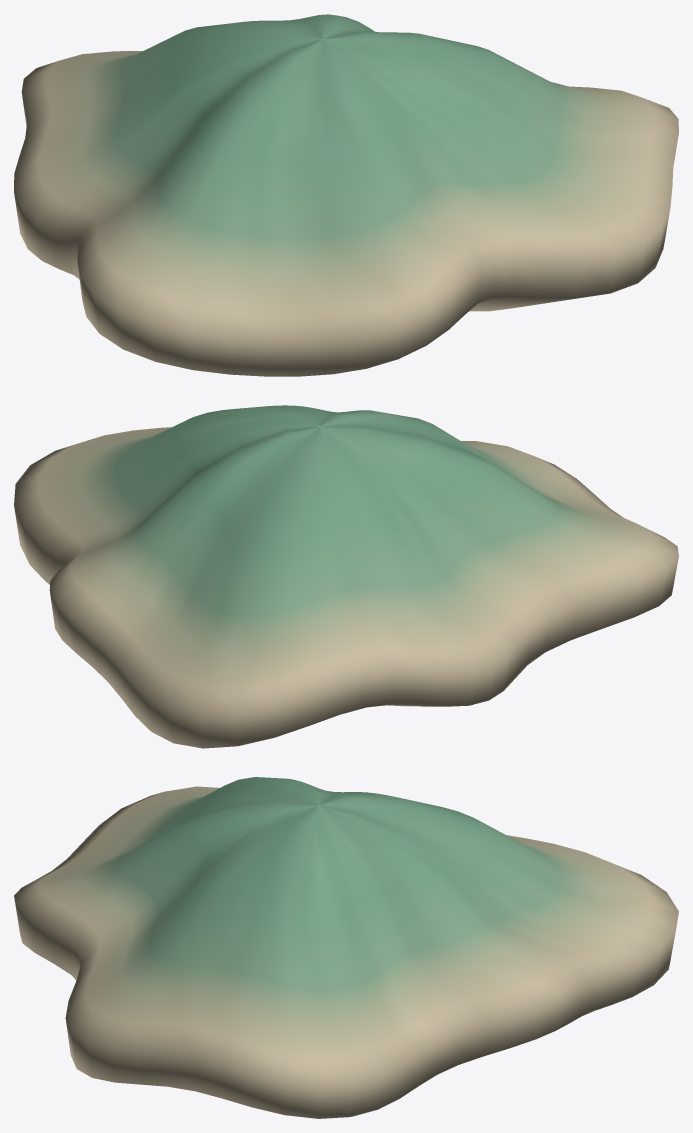
The model's file is tropical_islet.glb.
3 views of the same model, one above another, from view 1: azimuth 30°, elevation 25°; view 2: azimuth 150°, elevation 25°; view 3: azimuth 270°, elevation 25° (orthographic). The views are drawn at different scales.
Parts seen in each view (by area): view 1: world; view 2: world; view 3: world.
Boxes of the visible parts, x1,y1,x2,y2 form: world: (14,14,678,376); world: (14,405,678,748); world: (14,777,678,1118).
Size of the model in its own units: 2.2 by 0.7901 by 2.17.
